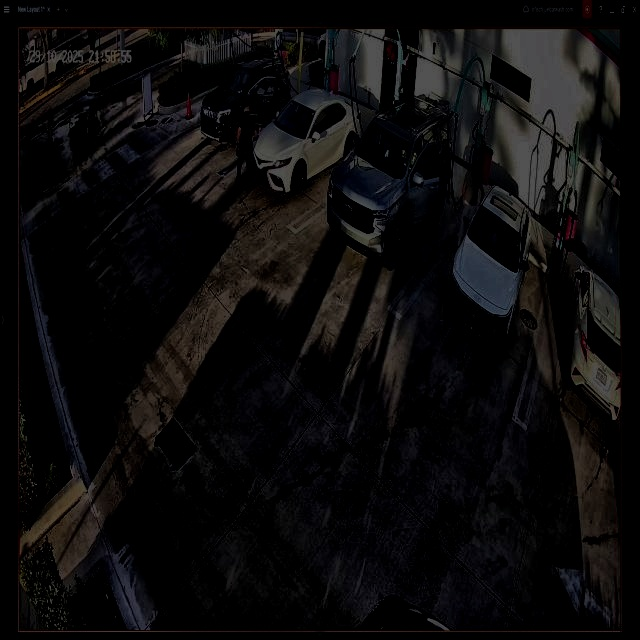Car: (330, 97, 451, 266), (451, 188, 531, 348), (251, 89, 359, 191)
